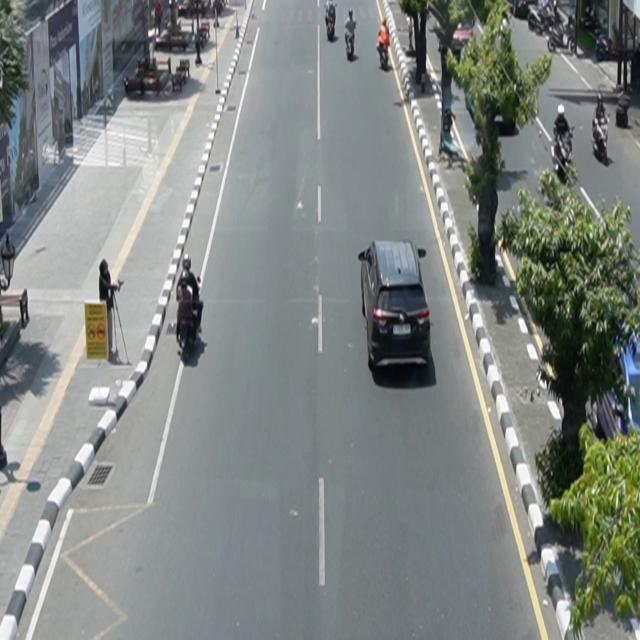car: (359, 239, 432, 372), (586, 322, 640, 446)
